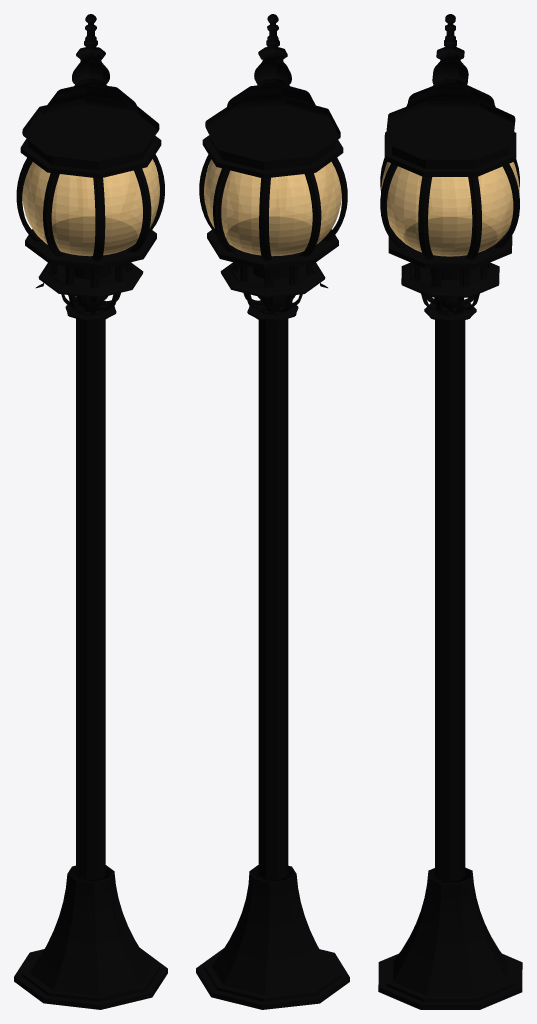
File: PosteLampada.FBX
The picture shows the model from 3 angles, left to right: view 1: azimuth 30°, elevation 25°; view 2: azimuth 150°, elevation 25°; view 3: azimuth 270°, elevation 25°; orthographic projection.
Visible parts, largest first — view 1: 1200; view 2: 1200; view 3: 1200.
Part boxes in pixels (x1=…): 1200: x1=14, y1=14, x2=167, y2=1009; 1200: x1=196, y1=14, x2=349, y2=1009; 1200: x1=378, y1=14, x2=522, y2=1009.
Bounding box in the file's own units: 0.6411 × 4.74 × 0.6411.
